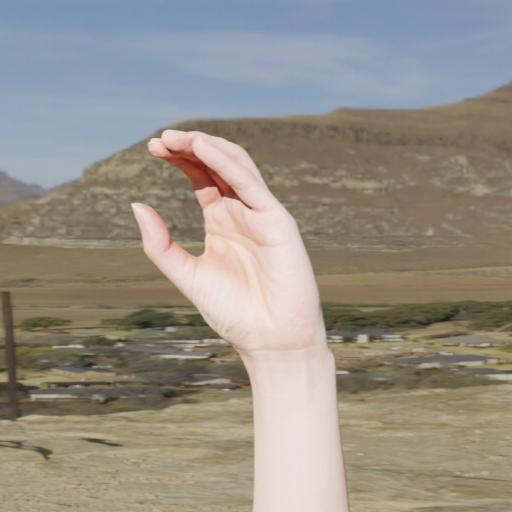C: (106, 100, 318, 412)
